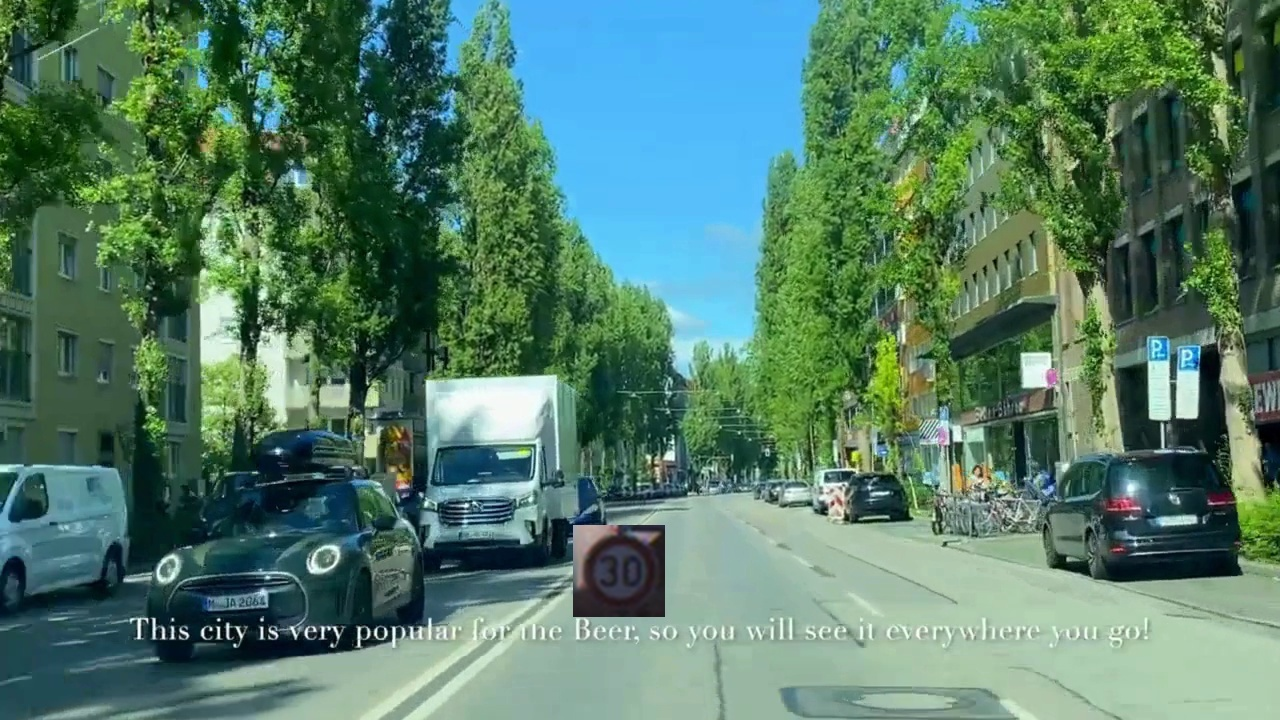Speed 30: (573, 525, 665, 617)
